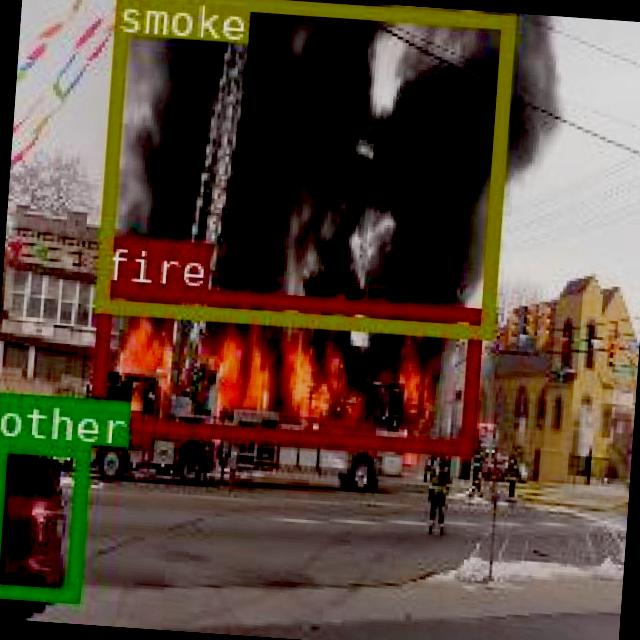fire: (87, 280, 480, 452)
smoke: (94, 0, 512, 337)
